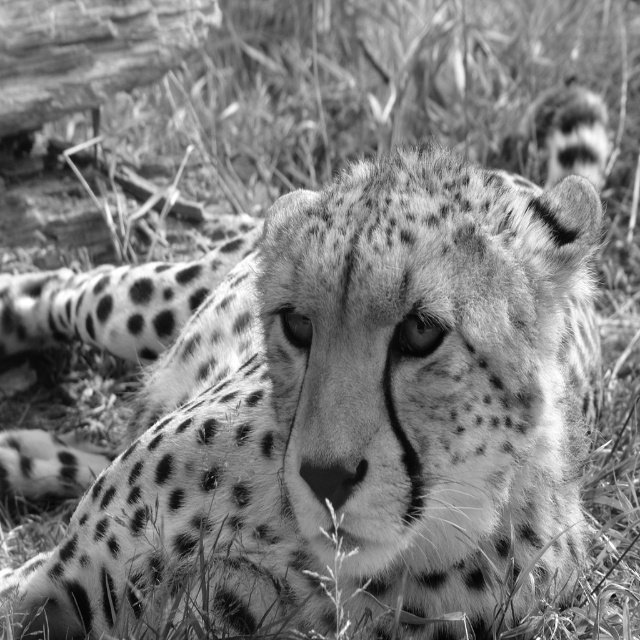Leopard: (0, 85, 609, 640)
